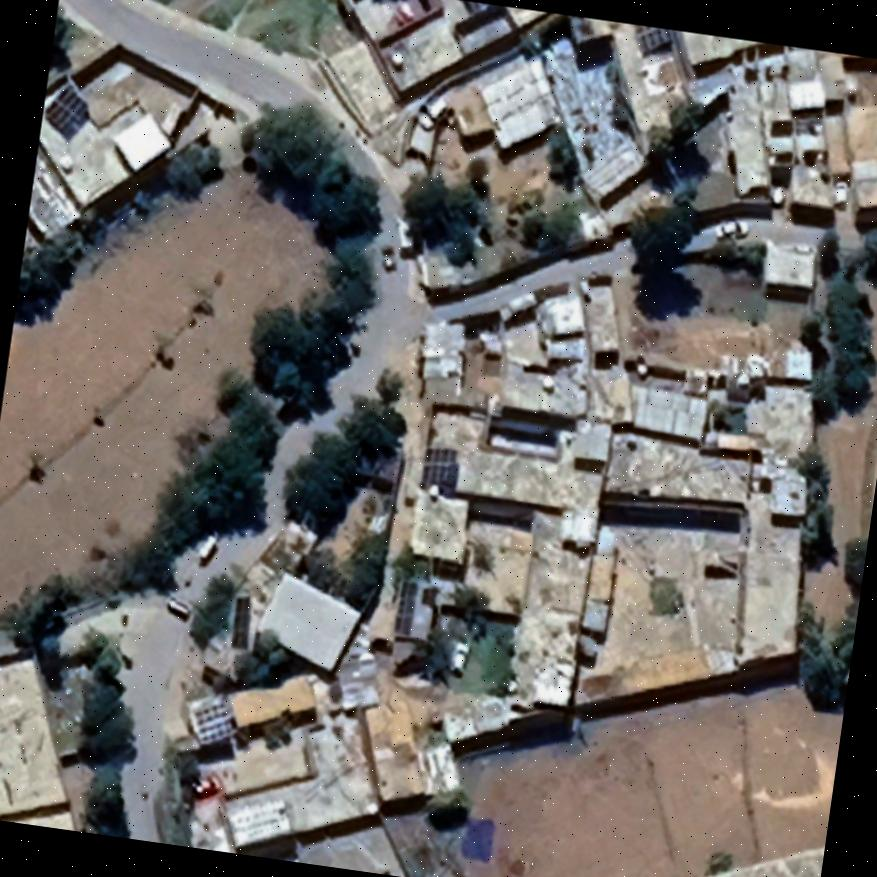Solarpanel: (40, 79, 94, 139), (193, 694, 247, 748), (418, 441, 462, 490), (391, 573, 422, 639), (226, 590, 257, 654), (628, 23, 672, 56)
